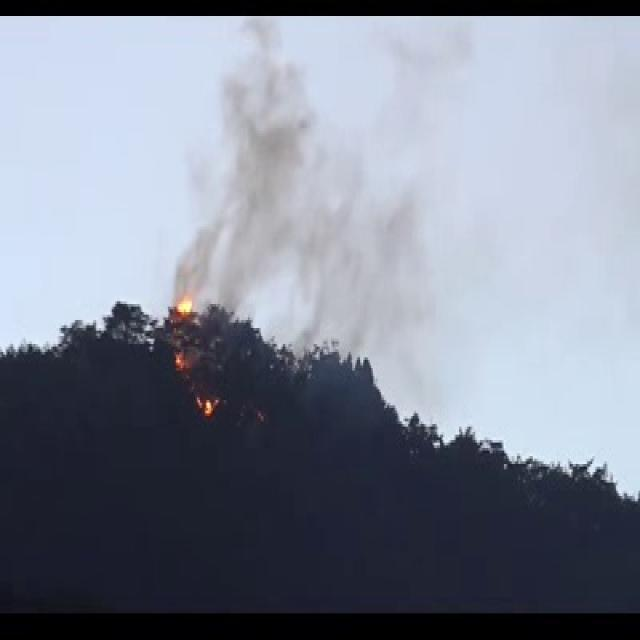Smoke: (212, 76, 440, 312)
